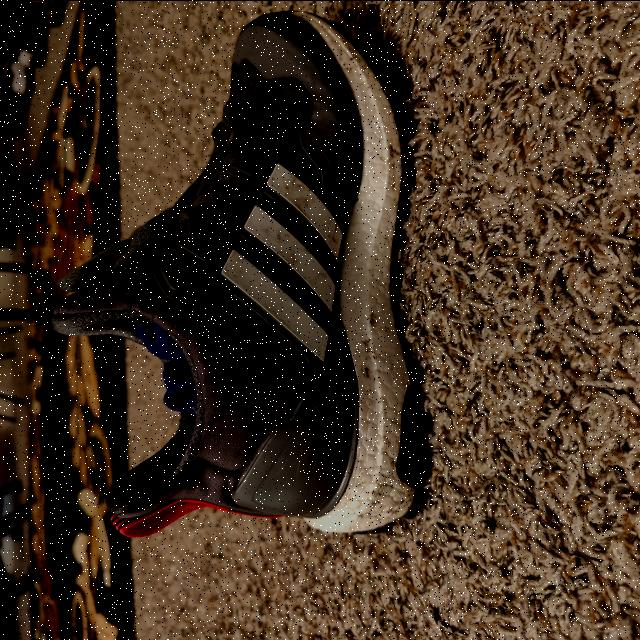black shoes: (237, 30, 417, 547)
